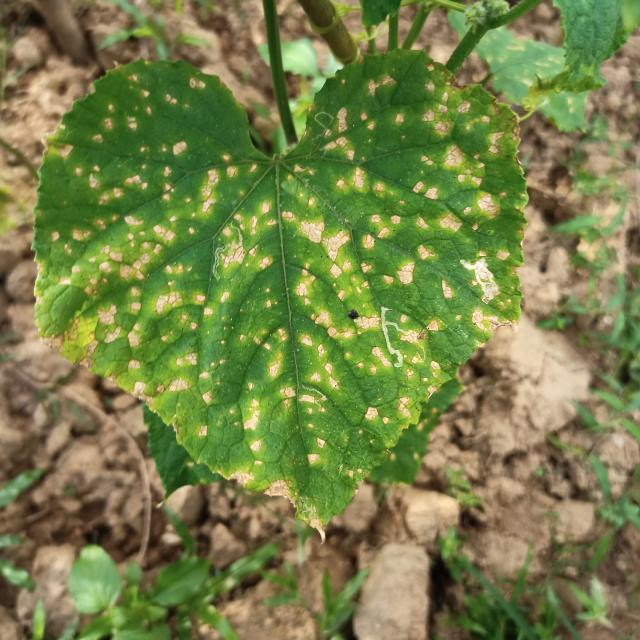disease_cucumber: (51, 70, 515, 472)
